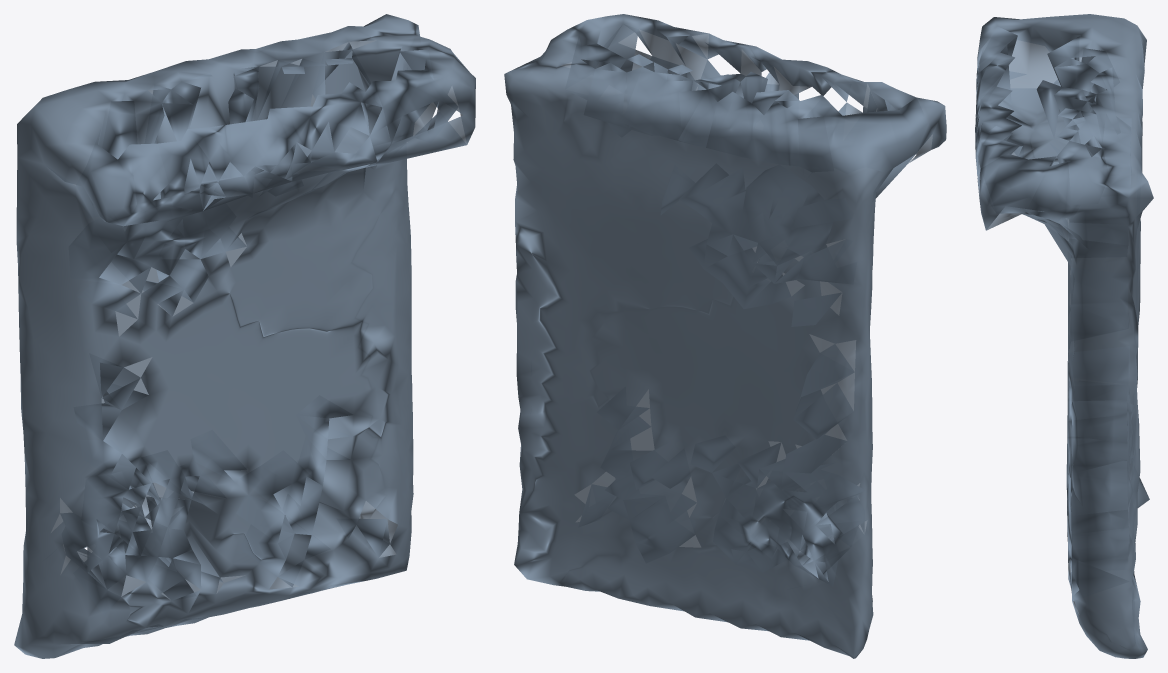
The model's file is sample_125_recon.obj.
3 views of the same model, side by side, from view 1: azimuth 30°, elevation 25°; view 2: azimuth 150°, elevation 25°; view 3: azimuth 270°, elevation 25° (orthographic). The views are drawn at different scales.
Bounding box in the file's own units: 1.14 × 1.51 × 0.4911.
